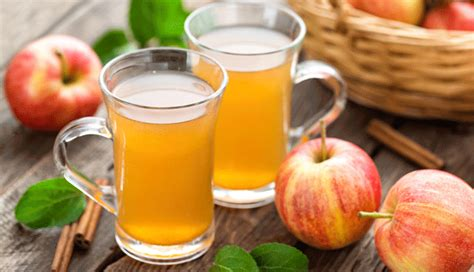apple: (273, 132, 381, 249), (364, 164, 473, 272), (3, 32, 106, 134)
